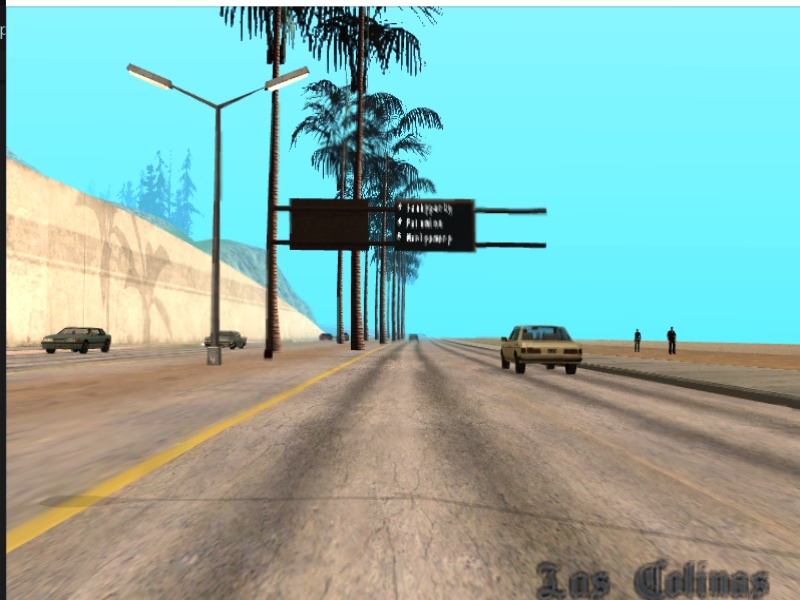person: (664, 326, 682, 356), (631, 327, 644, 355)
pole: (202, 103, 229, 370)
tree: (264, 7, 288, 367), (351, 6, 367, 351), (335, 140, 347, 347), (377, 165, 390, 346)
vehicle: (498, 319, 586, 379), (41, 324, 114, 358), (205, 328, 248, 353)
